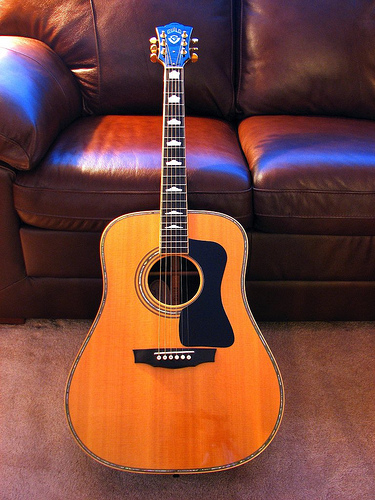guitar: (62, 23, 288, 478)
